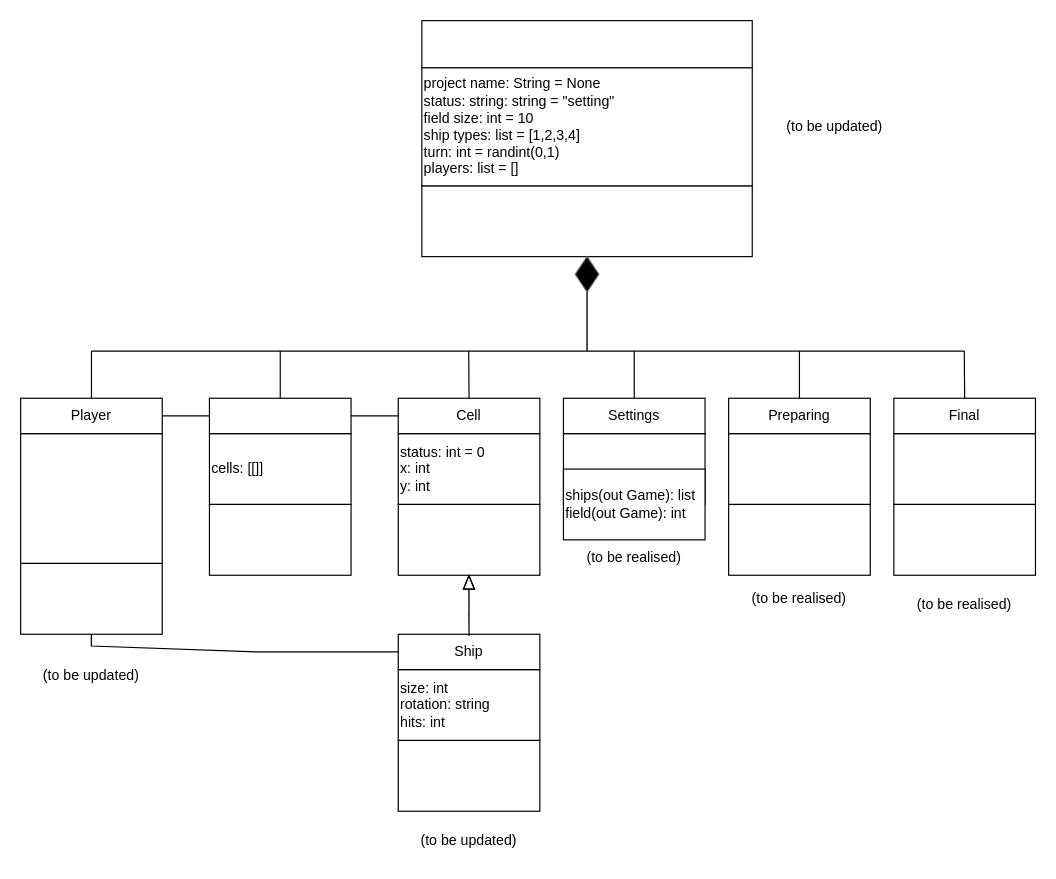
This 1056x879 diagram has some shape labels left out. The centre of each missing label's shape, as x and y in pixels:
"add(in Player): void draw" belongs at (x=586, y=221).
"Field" belongs at (x=279, y=415).
"Game" belongs at (x=586, y=43).
"login: string password: string stats: {} ships: [] field: Field" belongs at (x=90, y=497).
